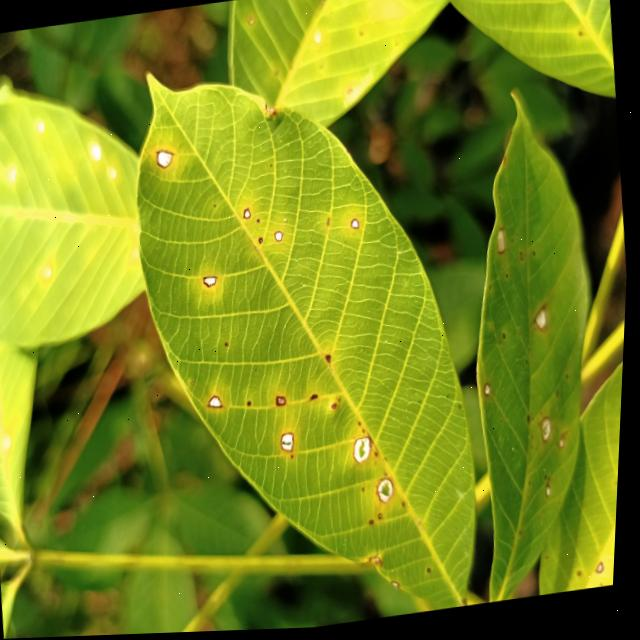Colletotrichum: (355, 438, 378, 466), (380, 479, 400, 506), (156, 148, 175, 169), (283, 433, 300, 453), (204, 275, 220, 288), (212, 396, 225, 409), (278, 397, 290, 408), (600, 565, 610, 578), (486, 384, 494, 399), (276, 232, 285, 243), (352, 220, 361, 231), (245, 208, 253, 220), (549, 488, 555, 500), (521, 255, 526, 263), (382, 515, 388, 521), (260, 238, 265, 244), (250, 402, 255, 407), (335, 406, 338, 410), (259, 220, 261, 224), (194, 381, 196, 385)
